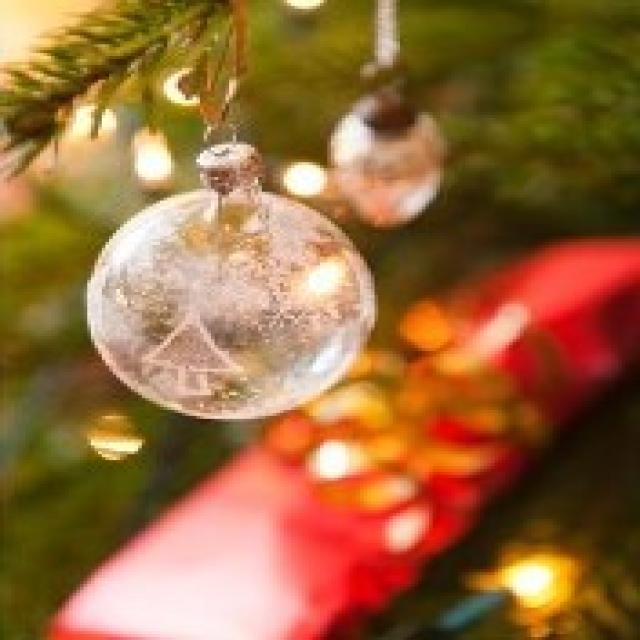electronic: (80, 123, 378, 422)
